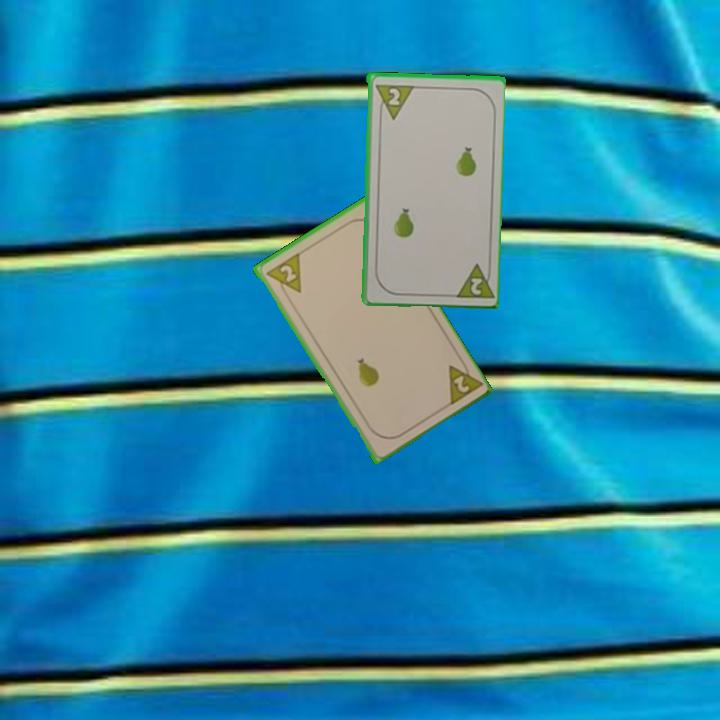2p: (444, 354, 484, 409), (262, 250, 304, 301), (450, 259, 494, 301), (371, 80, 415, 121)
